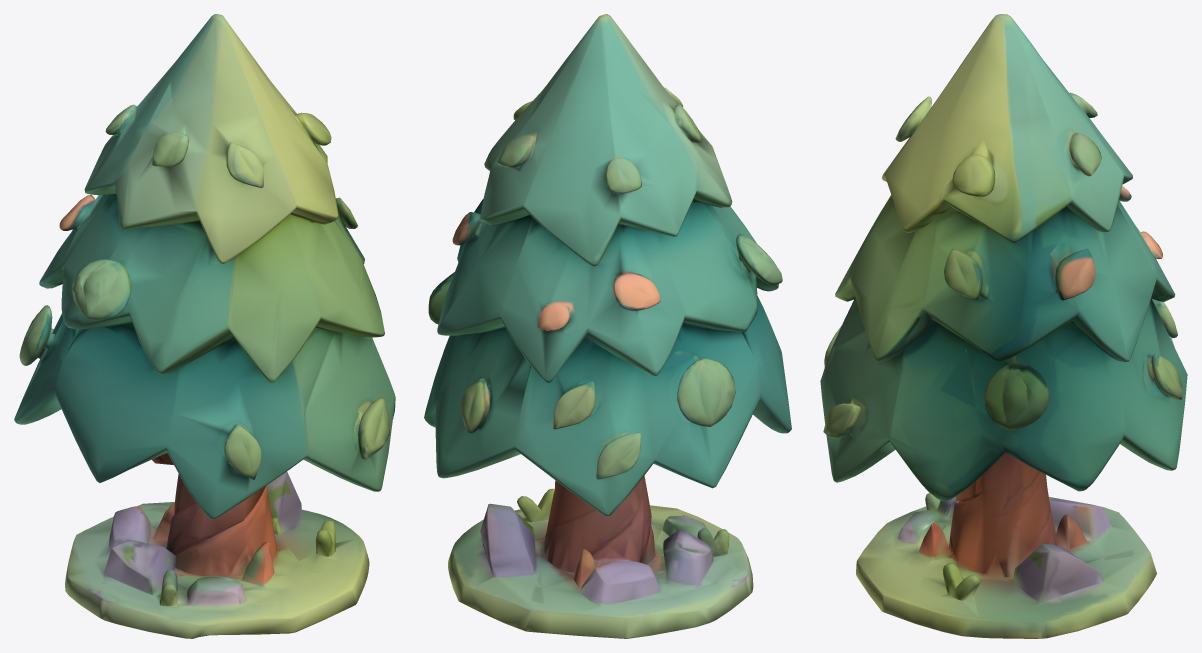
File: christmas tree2.fbx
The picture shows the model from 3 angles, left to right: view 1: azimuth 30°, elevation 25°; view 2: azimuth 150°, elevation 25°; view 3: azimuth 270°, elevation 25°; orthographic projection.
Visible parts, largest first — view 1: node_0.002; view 2: node_0.002; view 3: node_0.002.
Boxes of the visible parts, bbox=[...] form: node_0.002: bbox=[14, 14, 395, 638]; node_0.002: bbox=[424, 14, 791, 638]; node_0.002: bbox=[820, 14, 1187, 638].
Size of the model in its own units: 0.3515 by 0.5904 by 0.3507.
Materials: 1 (1 with a texture image).
